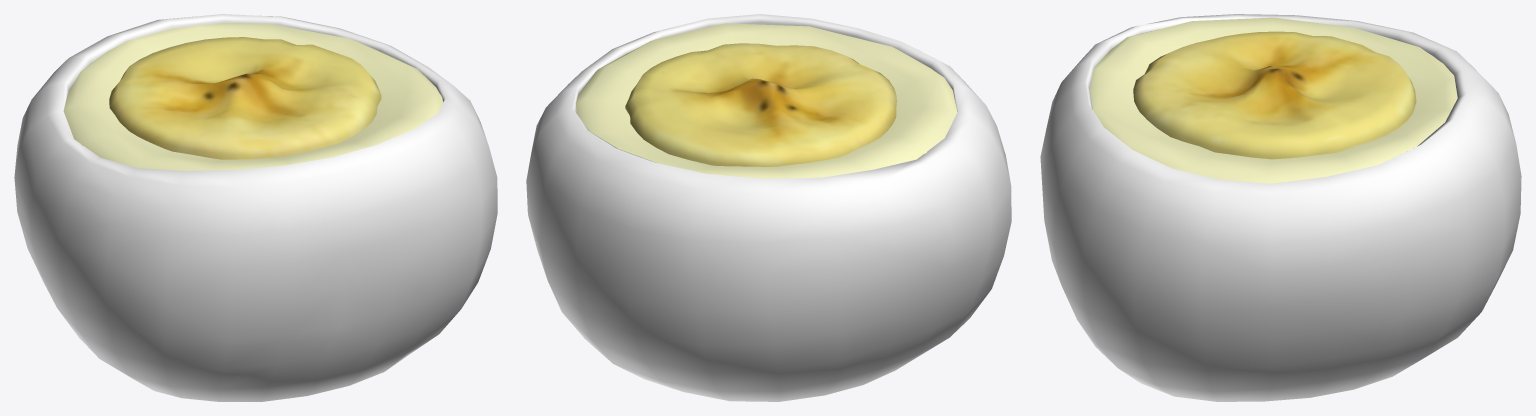
Rendered from banana.glb.
The picture shows the model from 3 angles, left to right: view 1: azimuth 30°, elevation 25°; view 2: azimuth 150°, elevation 25°; view 3: azimuth 270°, elevation 25°; orthographic projection. The views are drawn at different scales.
Visible parts, largest first — view 1: default1_5; view 2: default1_5; view 3: default1_5.
Part boxes in pixels (x1,y1,x2,y2): default1_5: [14, 14, 497, 401]; default1_5: [526, 14, 1011, 401]; default1_5: [1040, 14, 1521, 401].
Size of the model in its own units: 0.9945 by 0.5872 by 0.966.
Materials: 1 (1 with a texture image).
